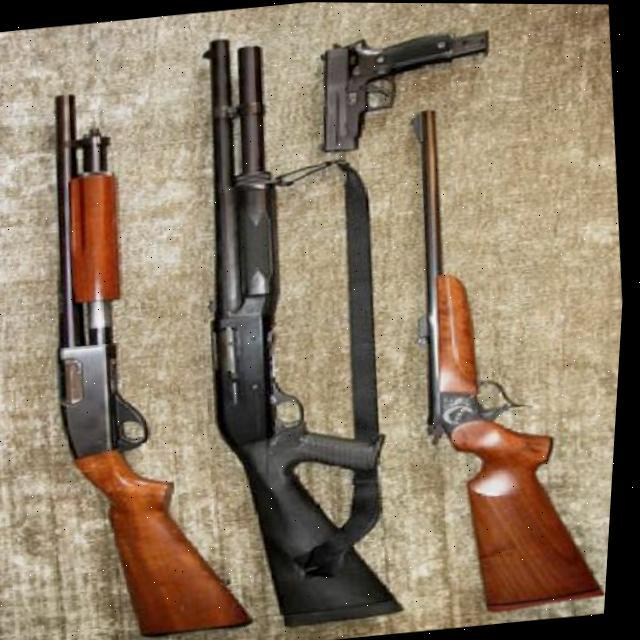gun: (308, 28, 467, 154)
